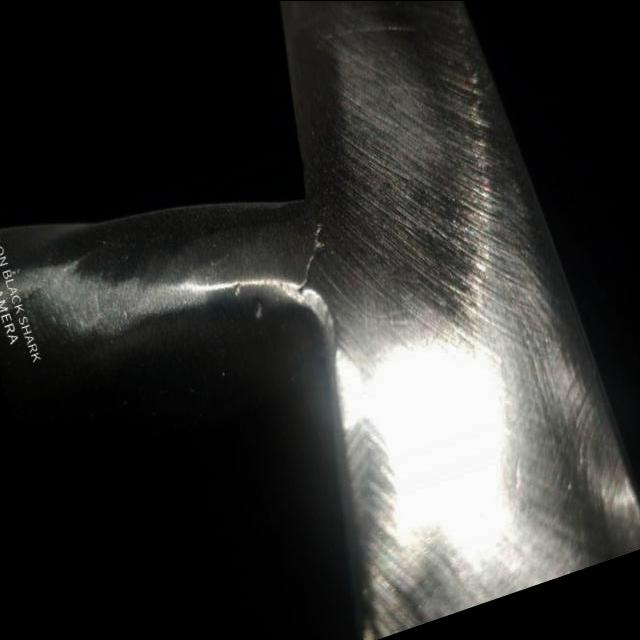defect: (297, 223, 330, 296)
